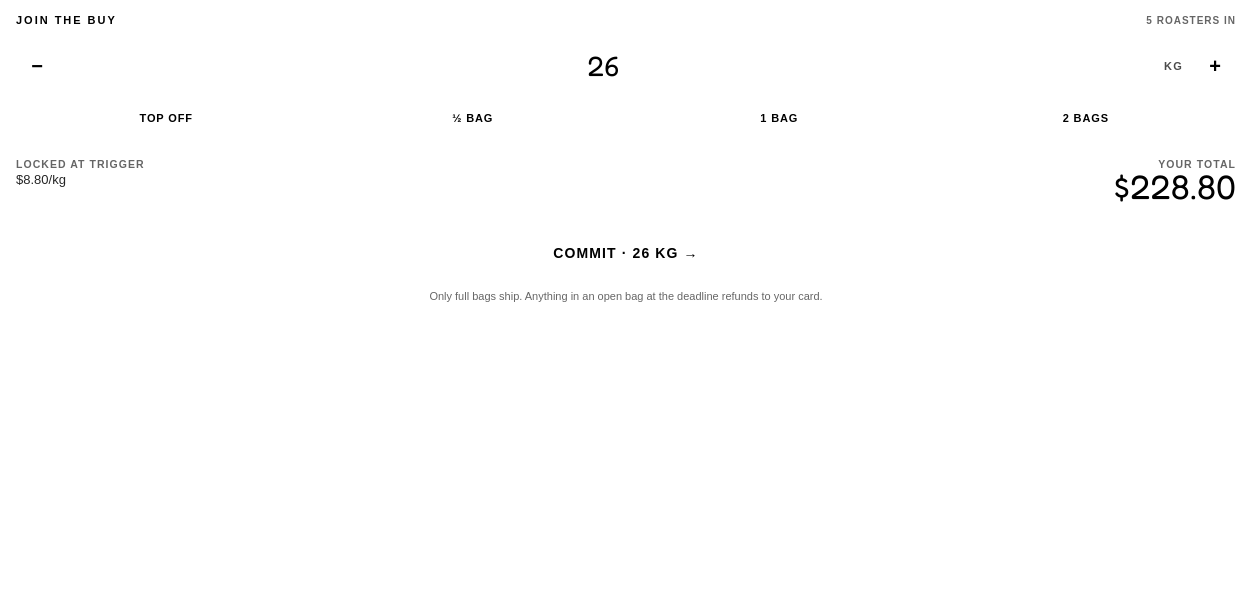
Test case: CampaignCommitForm — bag-aware (commit flow) › clicking a preset chip updates the quantity input
Step 1. Click the button "1 bag" → x=779, y=118, box [629,104,930,132]
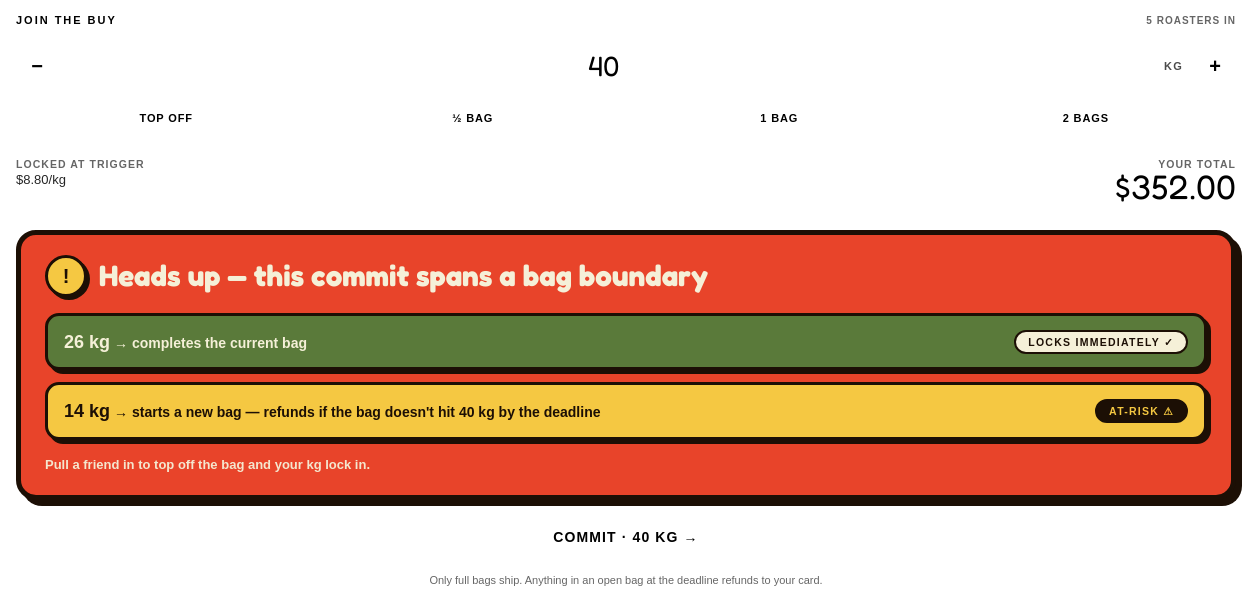
Expected: the number field named "quantity in kilograms" holds "40", [68,40,1154,92]
Step 2. Click the button "2 bags" → x=1086, y=118, box [936,104,1236,132]
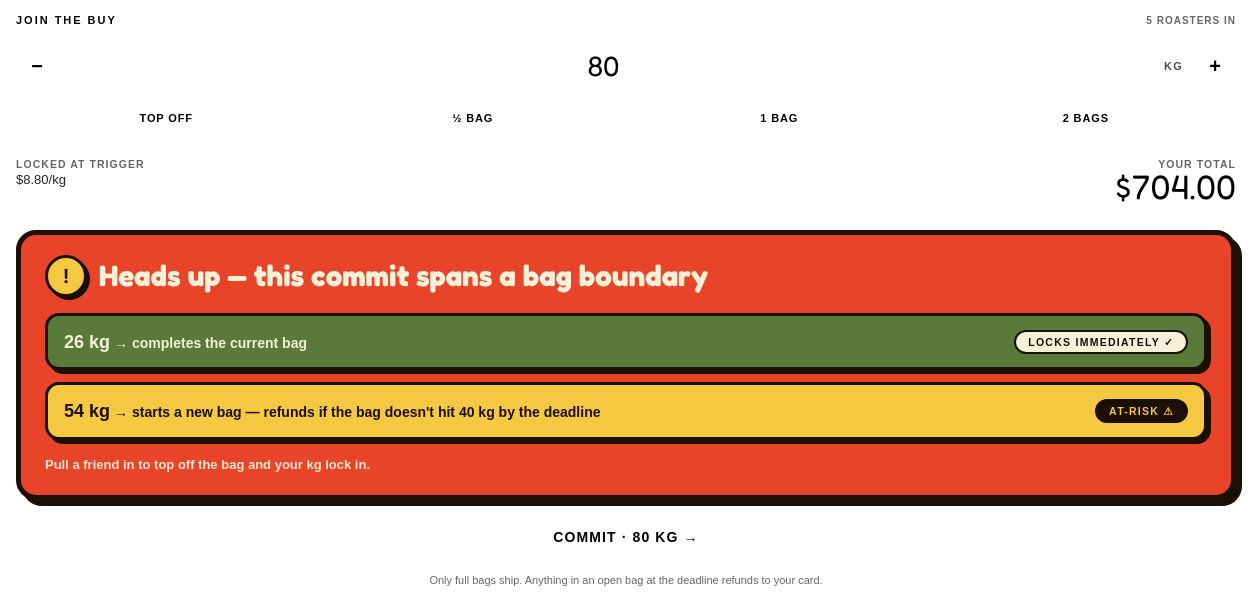
Expected: the number field named "quantity in kilograms" holds "80", [68,40,1154,92]
